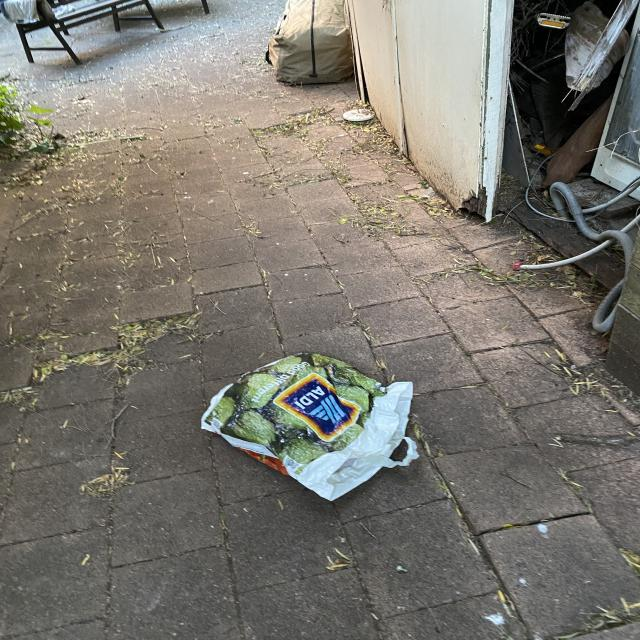bag: (198, 352, 420, 502)
